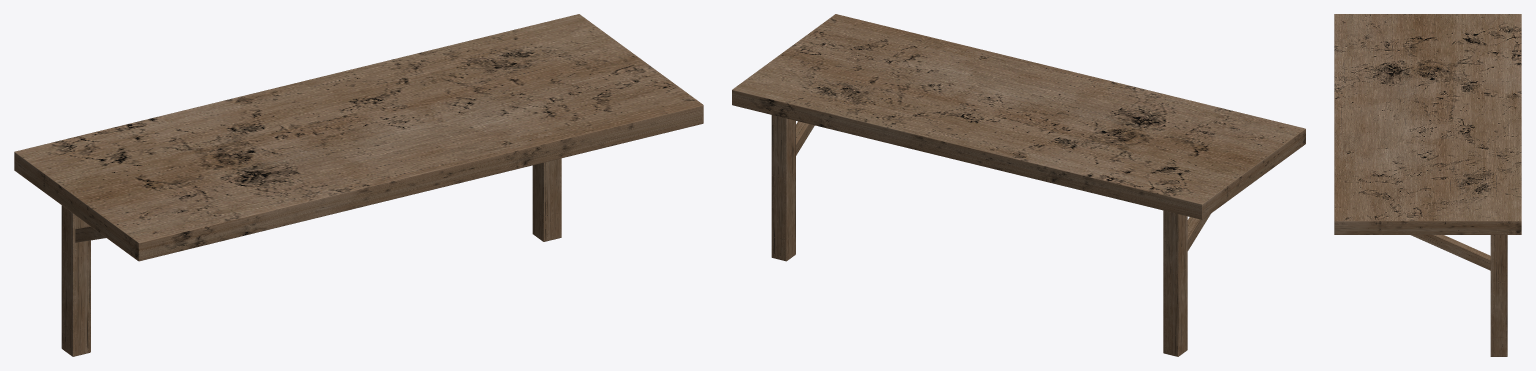
Rendered from counter.glb.
3 renders of one model, left to right at view 1: azimuth 30°, elevation 25°; view 2: azimuth 150°, elevation 25°; view 3: azimuth 270°, elevation 25°, orthographic. The views are drawn at different scales.
Parts seen in each view (by area): view 1: group6; view 2: group6; view 3: group6.
Part boxes in pixels (x1,y1,x2,y2): group6: [14, 14, 703, 356]; group6: [732, 14, 1305, 356]; group6: [1334, 14, 1521, 356].
Bounding box in the file's own units: 5.56 × 1.88 × 2.13.
1 material, 1 textured.
